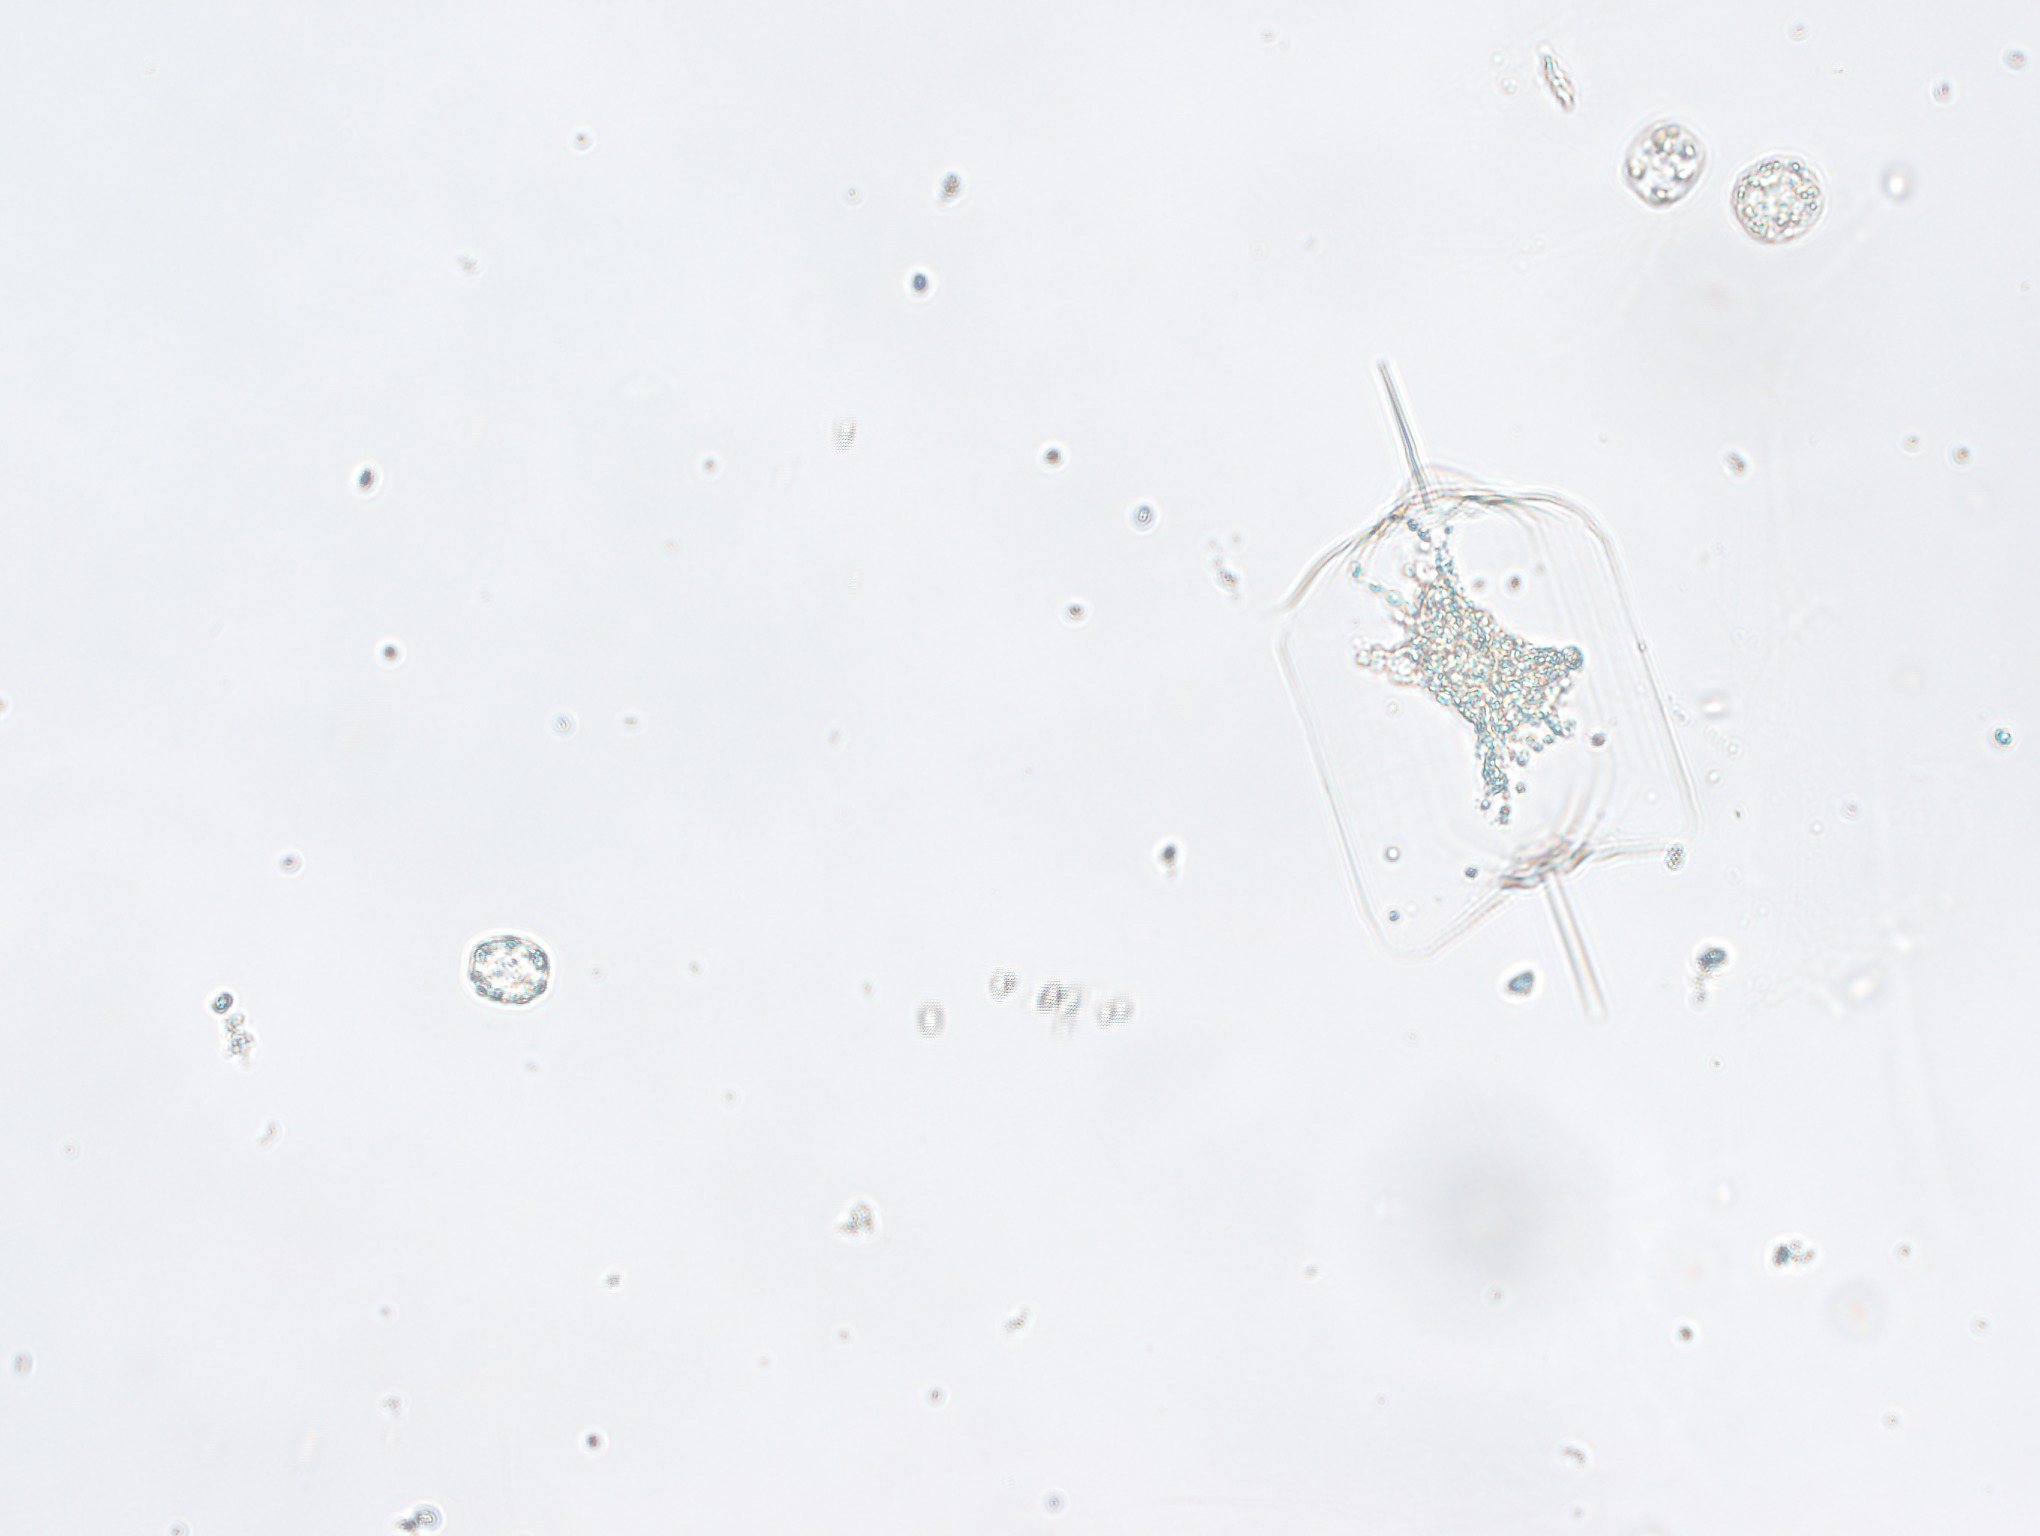ditylum: (1263, 361, 1716, 1029)
